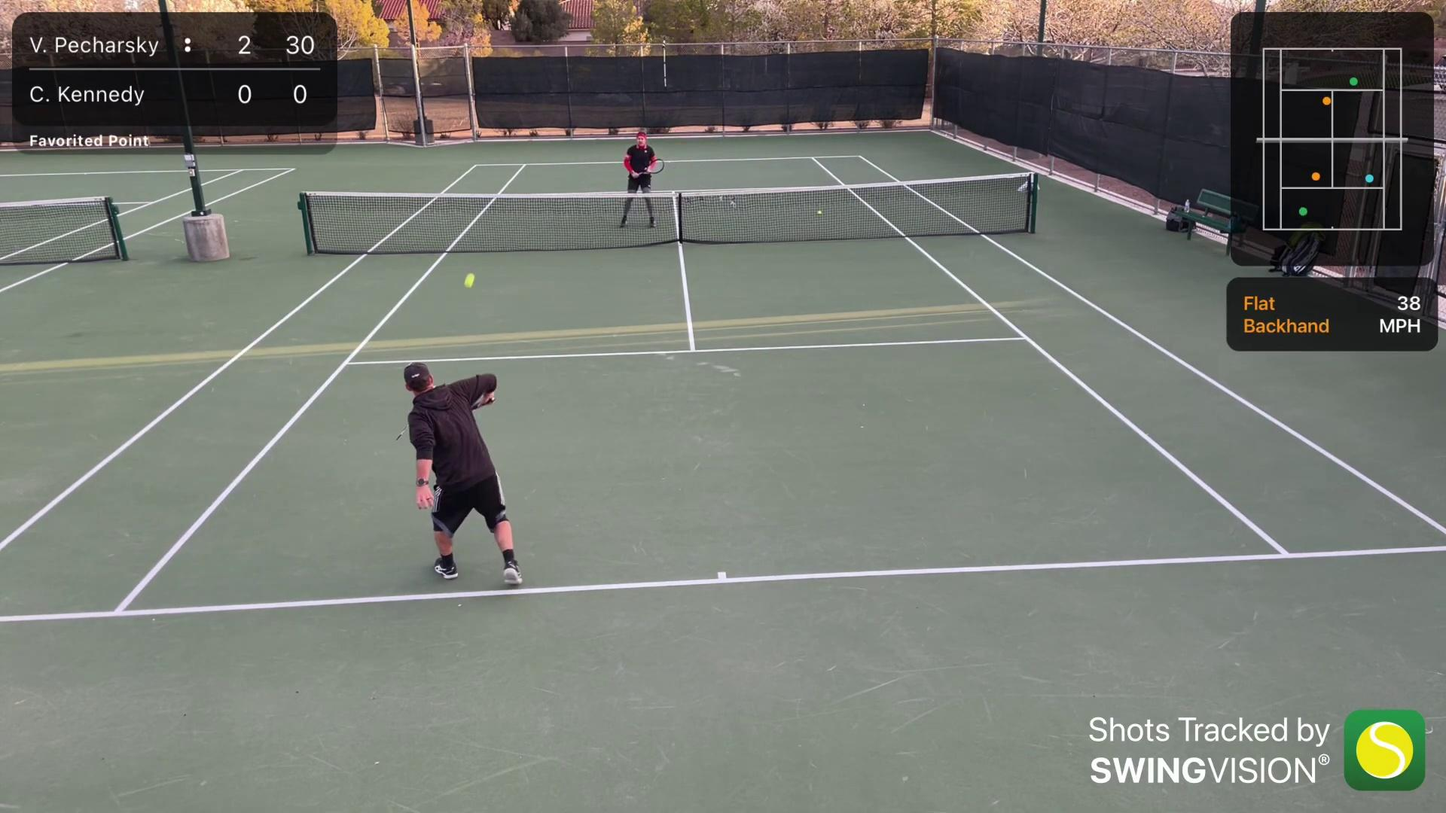ball: (462, 273, 477, 288), (816, 210, 822, 215)
